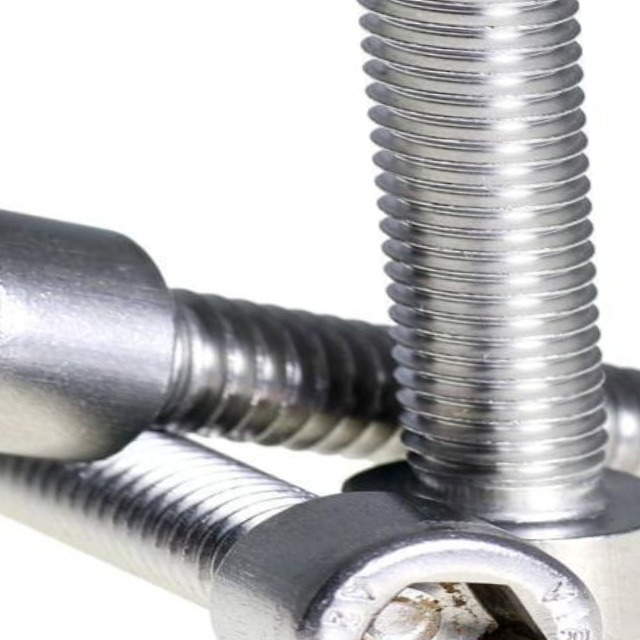allen: (199, 484, 615, 640), (0, 178, 25, 441)
